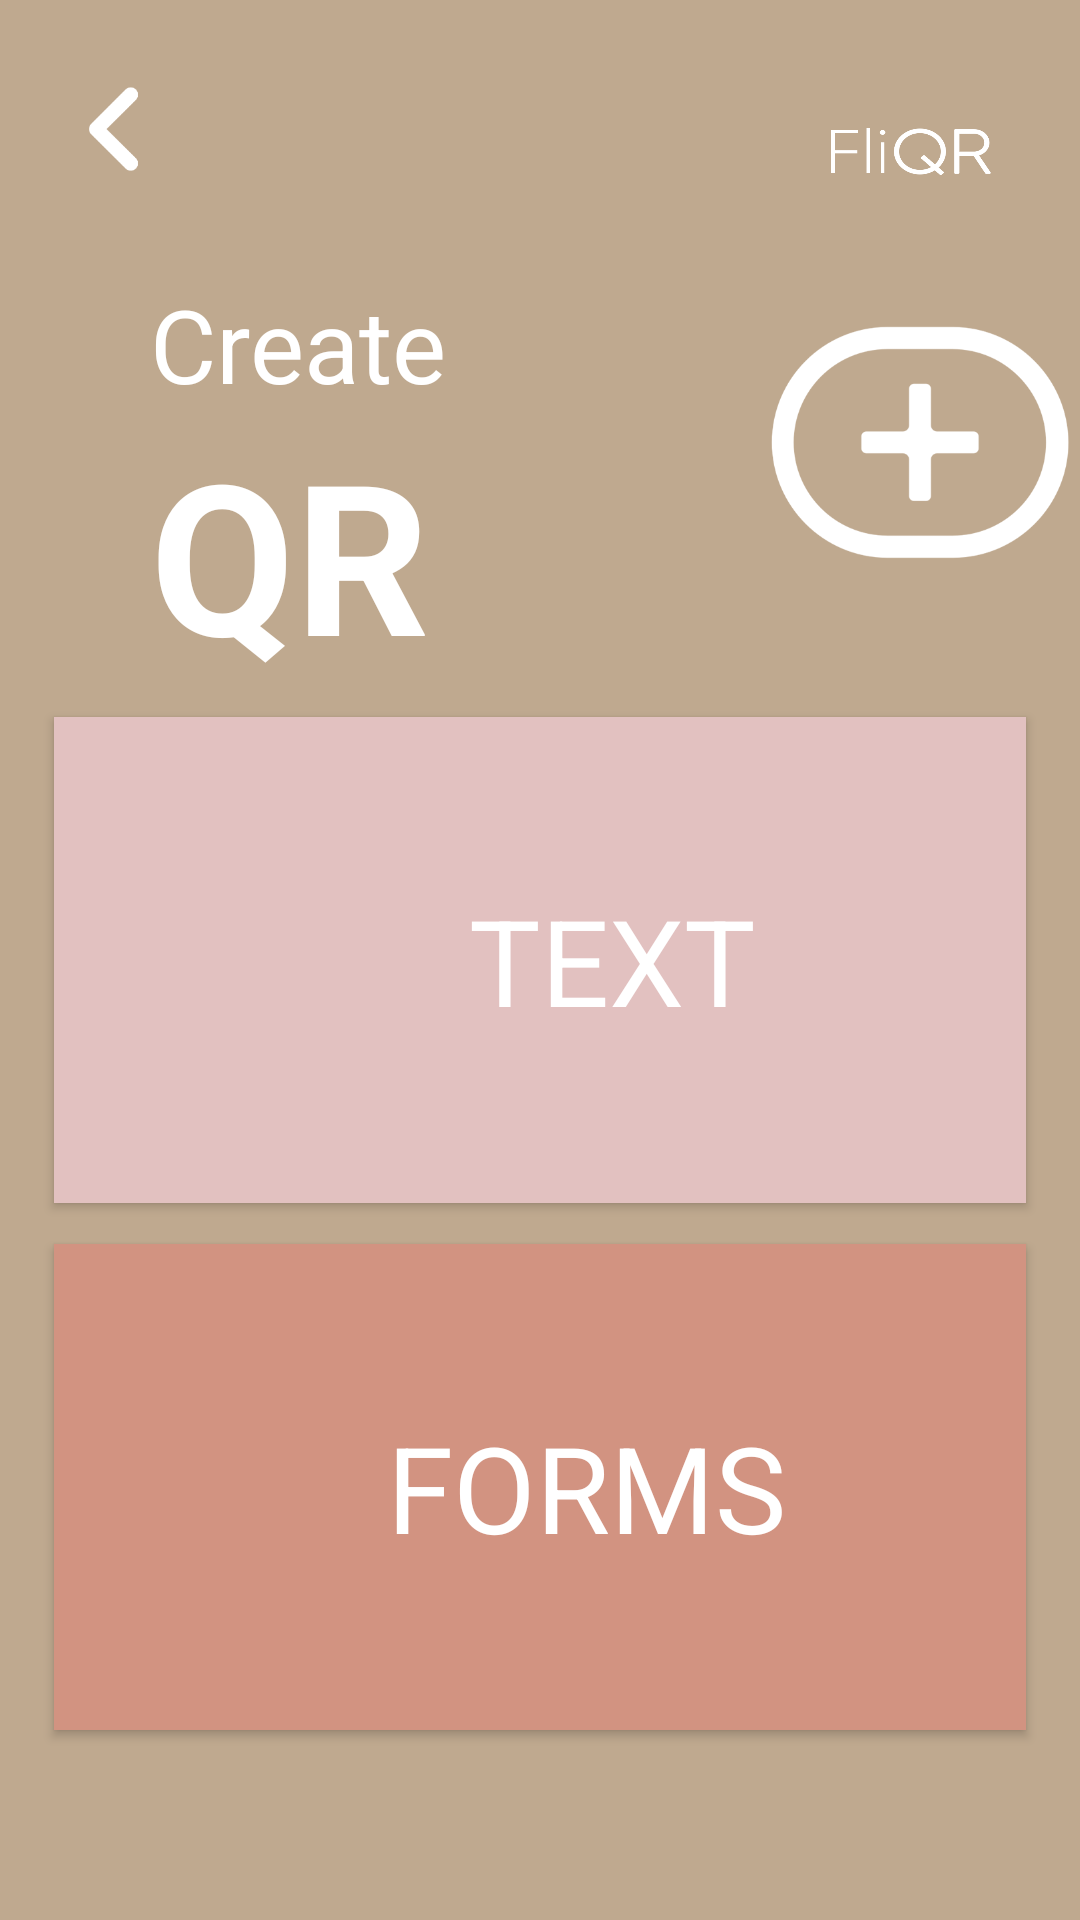

Icons on this 1080*1920 Android screen, each with the point to tap as (x,y):
back: (113,129)
